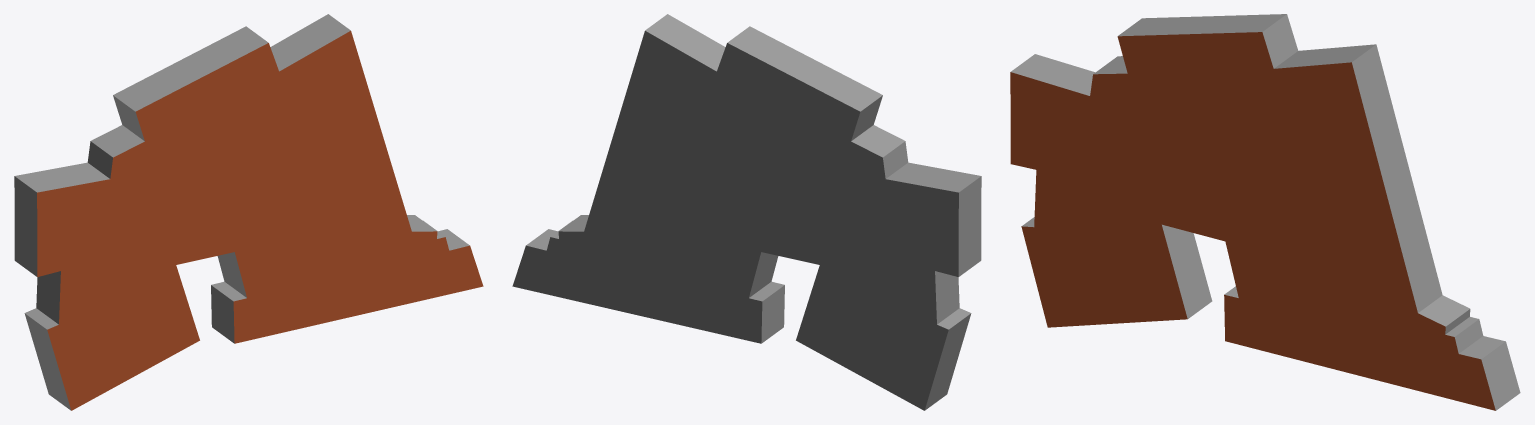
File: construction_0490_assumed_A_Casa_h6m.obj
3 renders of one model, left to right at view 1: azimuth 30°, elevation 25°; view 2: azimuth 150°, elevation 25°; view 3: azimuth 330°, elevation 25°, orthographic. The views are drawn at different scales.
Parts seen in each view (by area): view 1: construction_0490_assumed_A_Casa; view 2: construction_0490_assumed_A_Casa; view 3: construction_0490_assumed_A_Casa.
Part boxes in pixels (x1=…): construction_0490_assumed_A_Casa: x1=14, y1=14, x2=483, y2=410; construction_0490_assumed_A_Casa: x1=512, y1=14, x2=981, y2=410; construction_0490_assumed_A_Casa: x1=1010, y1=14, x2=1520, y2=410.
Size of the model in its own units: 68.25 by 46.75 by 6.
